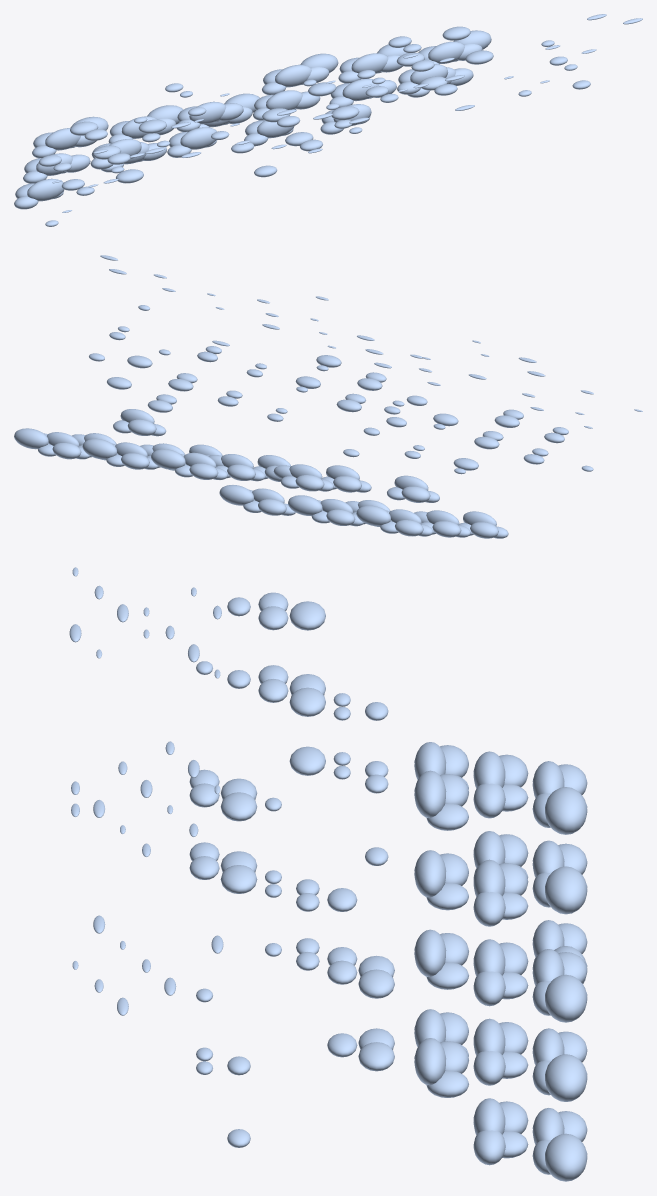
Rendered from SAC_Cloud_Field.obj.
3 views of the same model, one above another, from view 1: azimuth 30°, elevation 25°; view 2: azimuth 150°, elevation 25°; view 3: azimuth 270°, elevation 25° (orthographic). The views are drawn at different scales.
Parts seen in each view (by area): view 1: SAC_Cloud_Field_Combined; view 2: SAC_Cloud_Field_Combined; view 3: SAC_Cloud_Field_Combined.
Boxes of the visible parts, <box> form: SAC_Cloud_Field_Combined: <box>14,14,642,226</box>; SAC_Cloud_Field_Combined: <box>14,255,642,538</box>; SAC_Cloud_Field_Combined: <box>69,567,587,1181</box>.
Size of the model in its own units: 1140 by 228 by 482.
